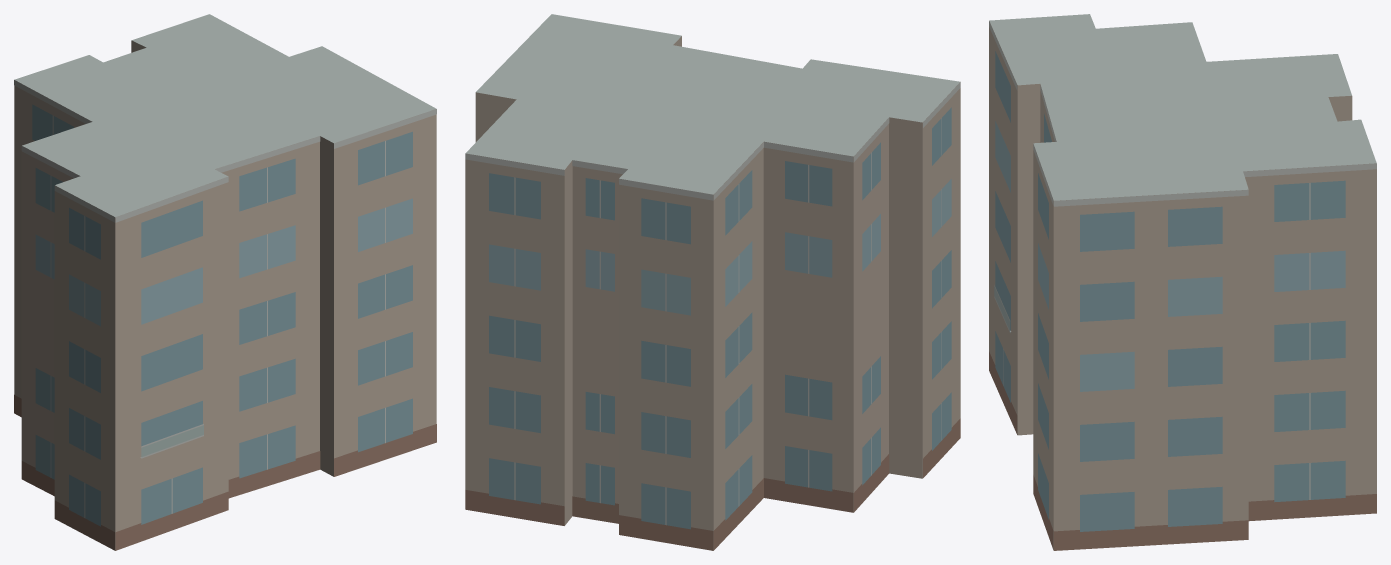
The model's file is survey-upis-32698812.glb.
3 renders of one model, left to right at view 1: azimuth 30°, elevation 25°; view 2: azimuth 150°, elevation 25°; view 3: azimuth 270°, elevation 25°, orthographic. The views are drawn at different scales.
Parts seen in each view (by area): view 1: survey-upis-32698812.tmp; view 2: survey-upis-32698812.tmp; view 3: survey-upis-32698812.tmp.
Boxes of the visible parts, bbox=[...] form: survey-upis-32698812.tmp: bbox=[14, 14, 436, 550]; survey-upis-32698812.tmp: bbox=[465, 14, 960, 550]; survey-upis-32698812.tmp: bbox=[989, 14, 1376, 550].
Bounding box in the file's own units: 16.49 × 14.4 × 14.46.
